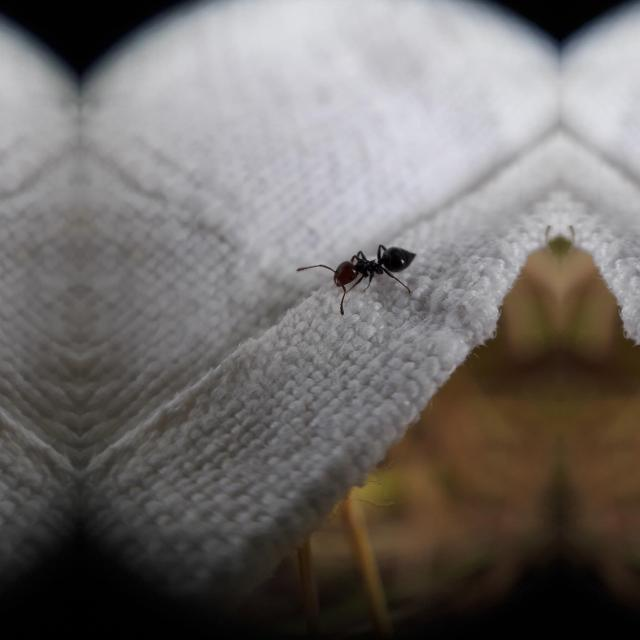Crematogaster: (321, 238, 413, 304)
